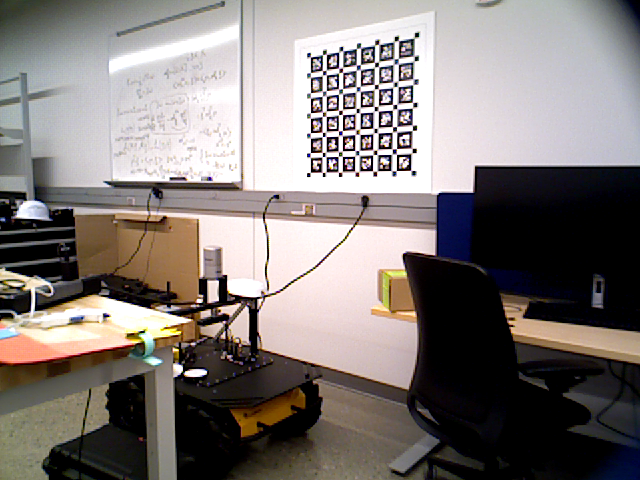painting4: (292, 24, 434, 193)
